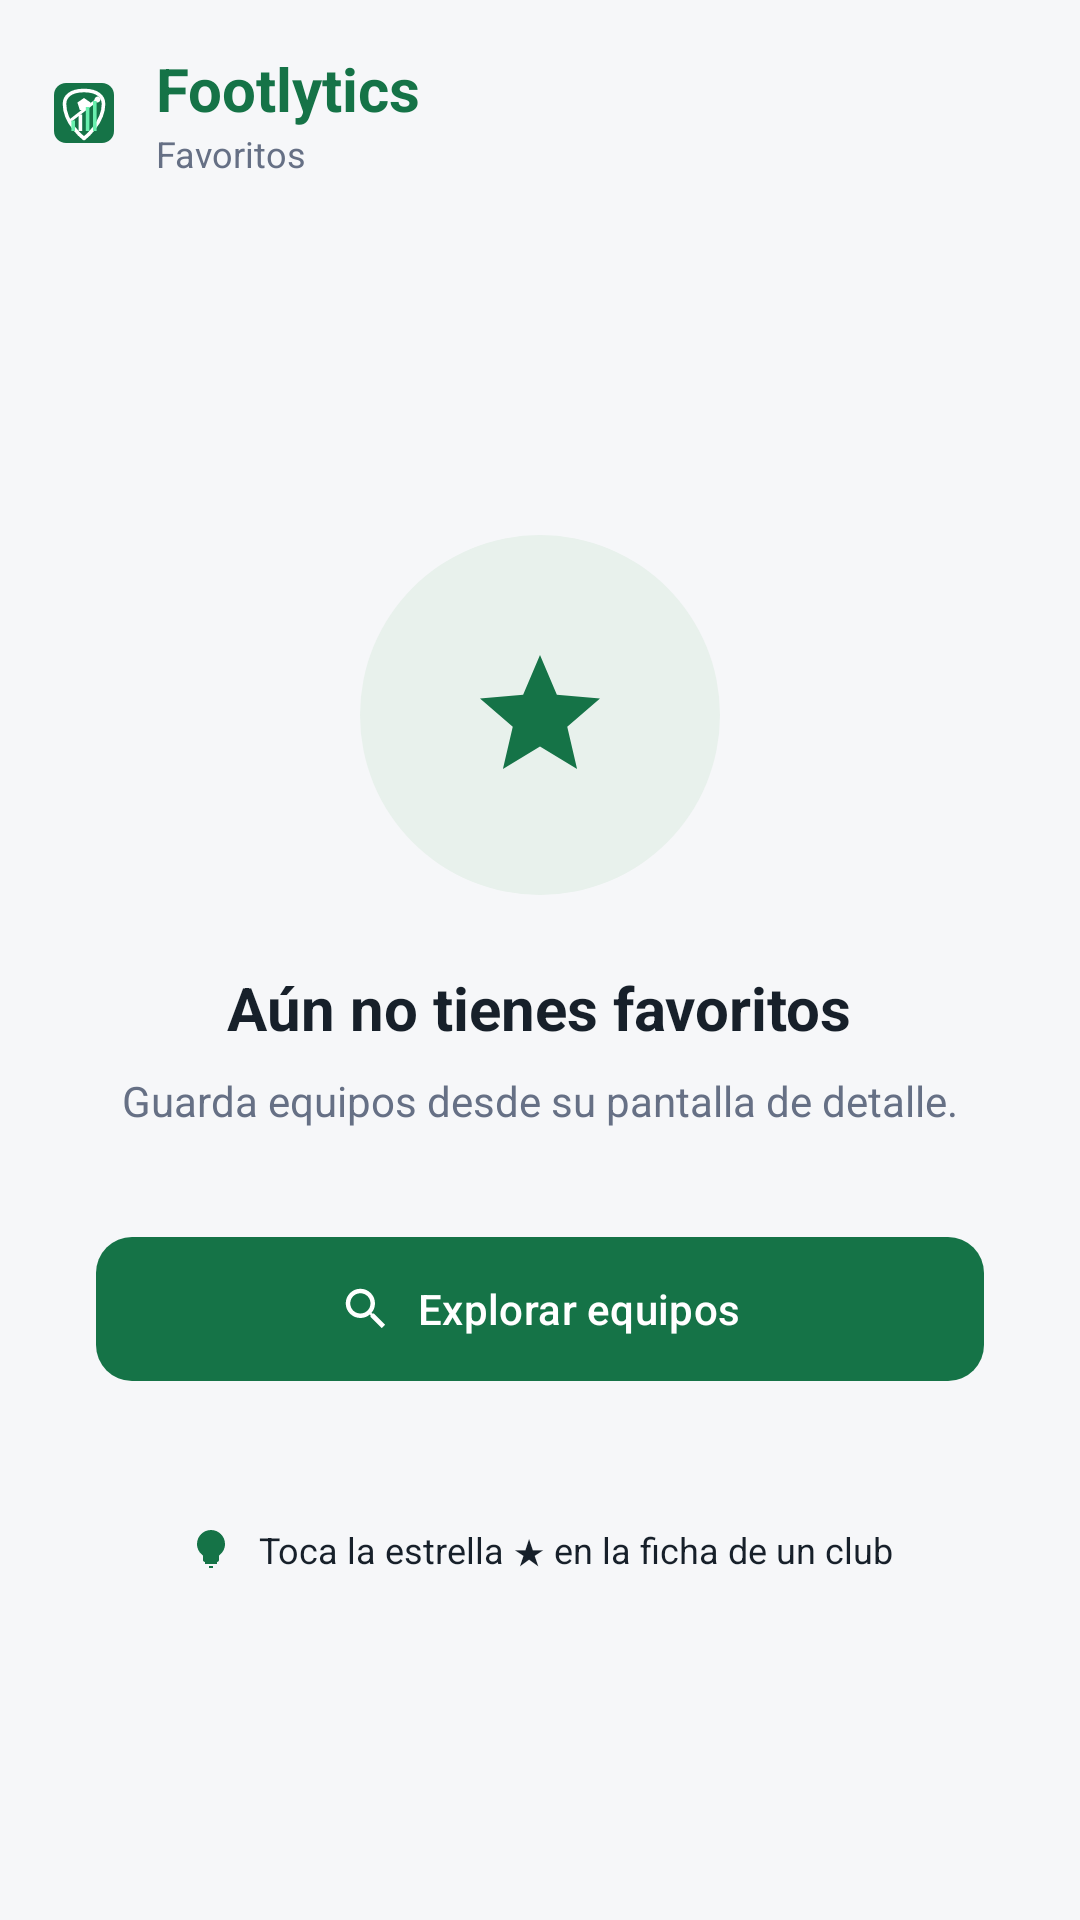

Icon click points for this 1080×1920 phone screenshot, format (x,y):
star: (540,715)
